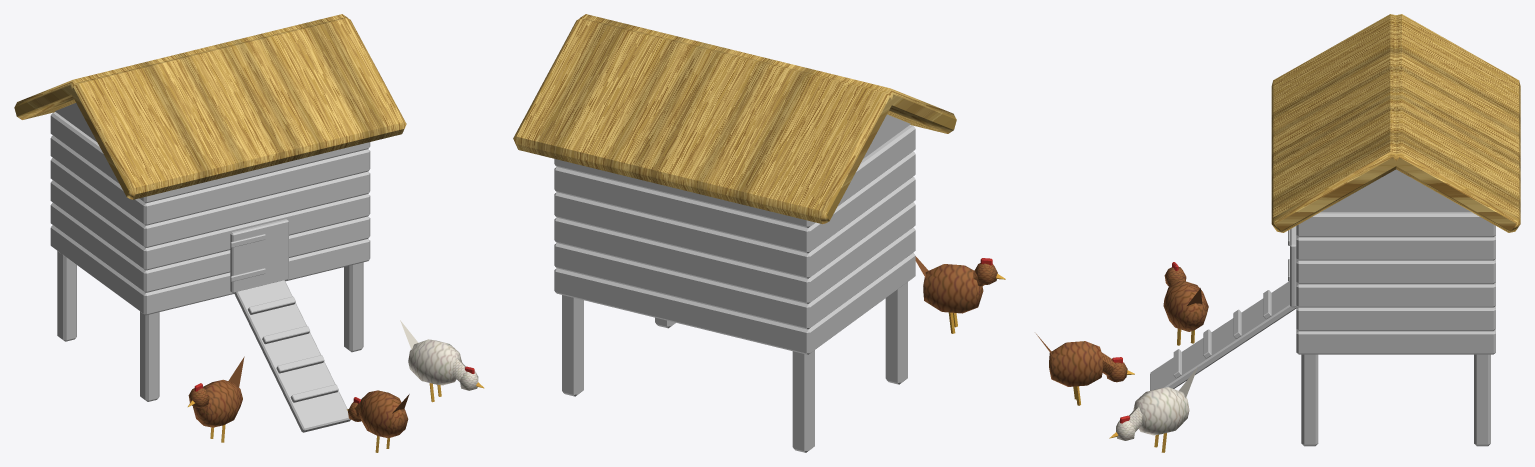
Rendered from SE_ChickenCoop.glb.
3 views of the same model, side by side, from view 1: azimuth 30°, elevation 25°; view 2: azimuth 150°, elevation 25°; view 3: azimuth 270°, elevation 25° (orthographic). The views are drawn at different scales.
Visible parts, largest first — view 1: SE_ChickenCoop; view 2: SE_ChickenCoop; view 3: SE_ChickenCoop.
Part boxes in pixels (box(x1,y1,x2,y2)): SE_ChickenCoop: box(14, 14, 484, 452); SE_ChickenCoop: box(513, 14, 1005, 452); SE_ChickenCoop: box(1036, 14, 1520, 452).
Size of what is drawn, in the model's own units: 1.36 by 1.38 by 1.97.
